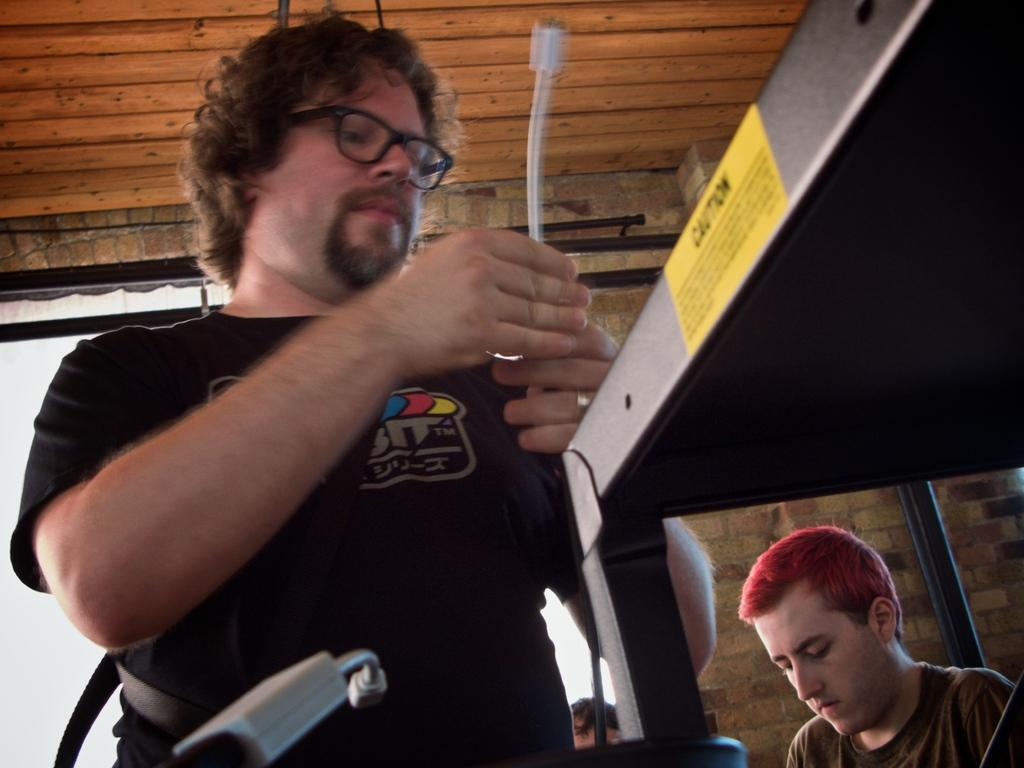Sem Máscara: (261, 46, 425, 279), (752, 623, 875, 751)
